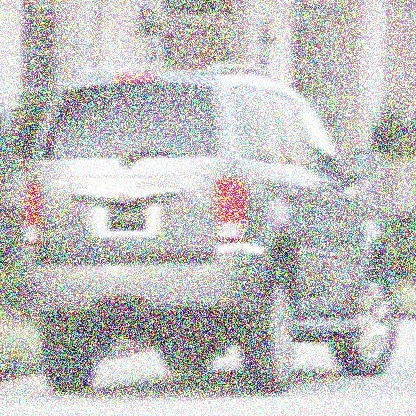Vehicle: (23, 57, 401, 399)
